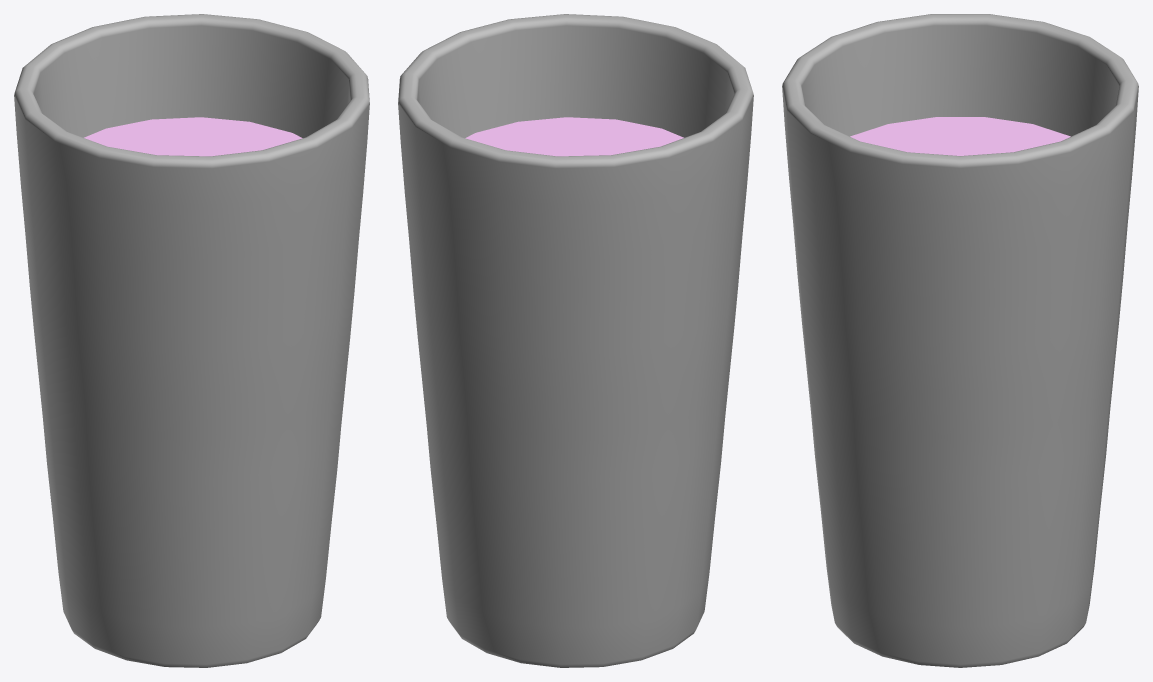
File: glass of water.fbx
3 views of the same model, side by side, from view 1: azimuth 30°, elevation 25°; view 2: azimuth 150°, elevation 25°; view 3: azimuth 270°, elevation 25° (orthographic).
Visible parts, largest first — view 1: copo_low_01, copo_low_02; view 2: copo_low_01, copo_low_02; view 3: copo_low_01, copo_low_02.
Boxes of the visible parts, <box> form: copo_low_01: <box>14,14,369,667</box>; copo_low_02: <box>84,117,302,156</box>; copo_low_01: <box>398,14,753,667</box>; copo_low_02: <box>465,117,683,156</box>; copo_low_01: <box>782,14,1138,667</box>; copo_low_02: <box>850,117,1070,155</box>.
Size of the model in its own units: 13.97 by 22.96 by 14.02.
